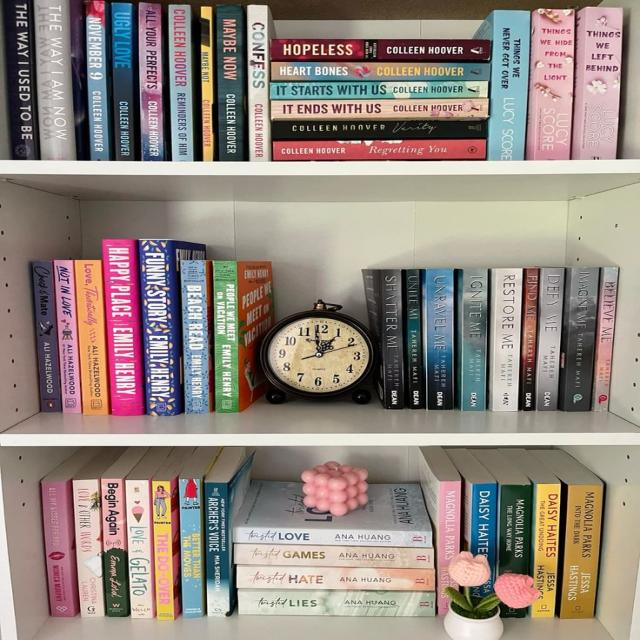book: (138, 239, 183, 416), (570, 8, 622, 159), (525, 8, 575, 160), (103, 239, 144, 416), (33, 0, 76, 160), (486, 10, 530, 160), (558, 267, 599, 411), (3, 0, 39, 159), (73, 260, 109, 415), (180, 259, 214, 413), (235, 543, 432, 569), (42, 479, 79, 617), (215, 5, 247, 161), (273, 40, 490, 62), (565, 486, 600, 617), (489, 268, 521, 411), (239, 593, 435, 616), (32, 259, 61, 412), (534, 267, 565, 410), (272, 99, 488, 119), (238, 567, 434, 589), (423, 270, 454, 409), (458, 268, 488, 410), (53, 261, 81, 413), (110, 3, 137, 160), (101, 473, 130, 617), (73, 479, 103, 617), (247, 5, 273, 161), (273, 141, 485, 160), (126, 480, 155, 618), (233, 526, 433, 546), (272, 62, 490, 80), (169, 5, 194, 161), (86, 0, 110, 160), (213, 261, 238, 412), (140, 3, 164, 160), (592, 268, 618, 411), (205, 482, 231, 618), (272, 122, 486, 138), (152, 482, 177, 618), (270, 82, 489, 97), (179, 477, 202, 619), (403, 269, 425, 408), (70, 0, 89, 159), (519, 268, 539, 410), (500, 484, 529, 573), (199, 6, 215, 161), (384, 270, 401, 410), (536, 484, 554, 616), (470, 483, 496, 553), (439, 480, 459, 552)
candle: (302, 461, 368, 516)
flowers: (444, 551, 539, 639)
